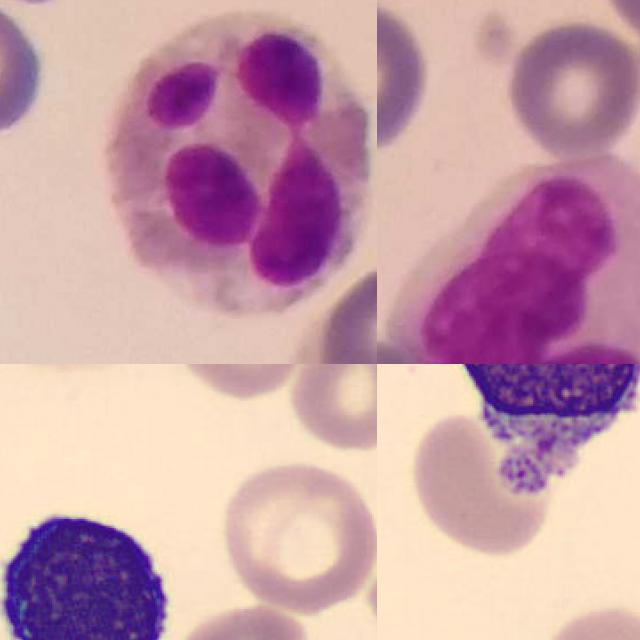Eosinophil: (104, 7, 377, 318)
Lymphocyte: (415, 364, 640, 515), (0, 492, 185, 640)
Monocyte: (395, 152, 640, 364)
RBC: (403, 406, 565, 561), (215, 457, 377, 610), (281, 364, 377, 457), (172, 364, 320, 404), (174, 600, 309, 640), (531, 600, 640, 640)
